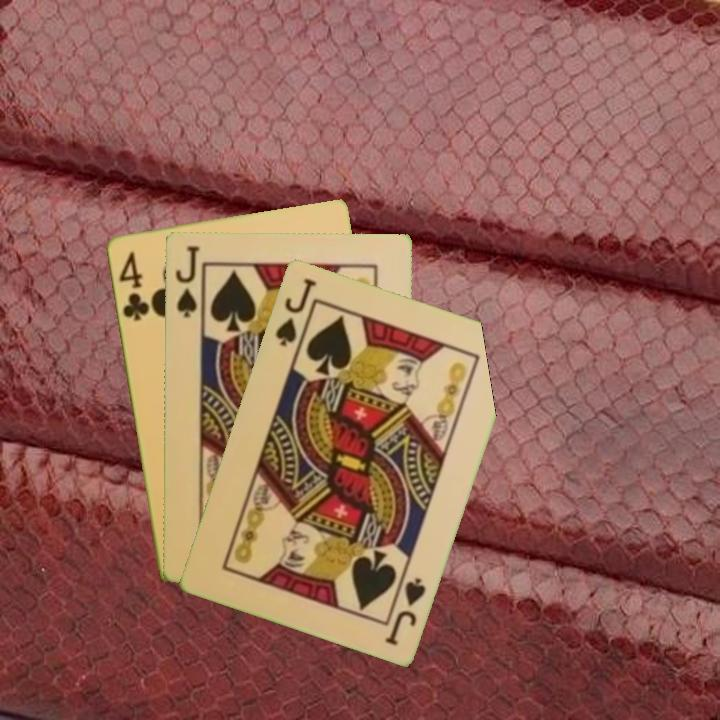4c: (114, 248, 152, 324)
Js: (271, 274, 319, 349), (381, 573, 429, 648), (171, 242, 202, 320)
